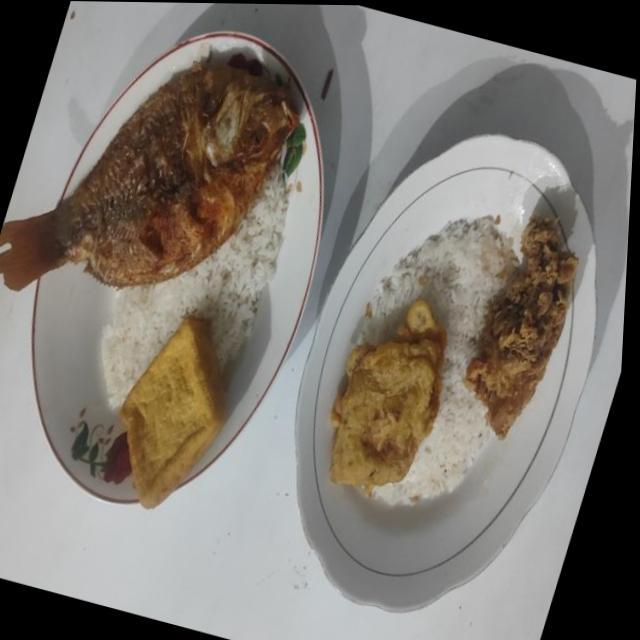ikan_mujair: (0, 61, 298, 289)
nasi_putih: (356, 216, 518, 504), (100, 170, 288, 409)
tahu_goreng: (120, 315, 226, 508)
